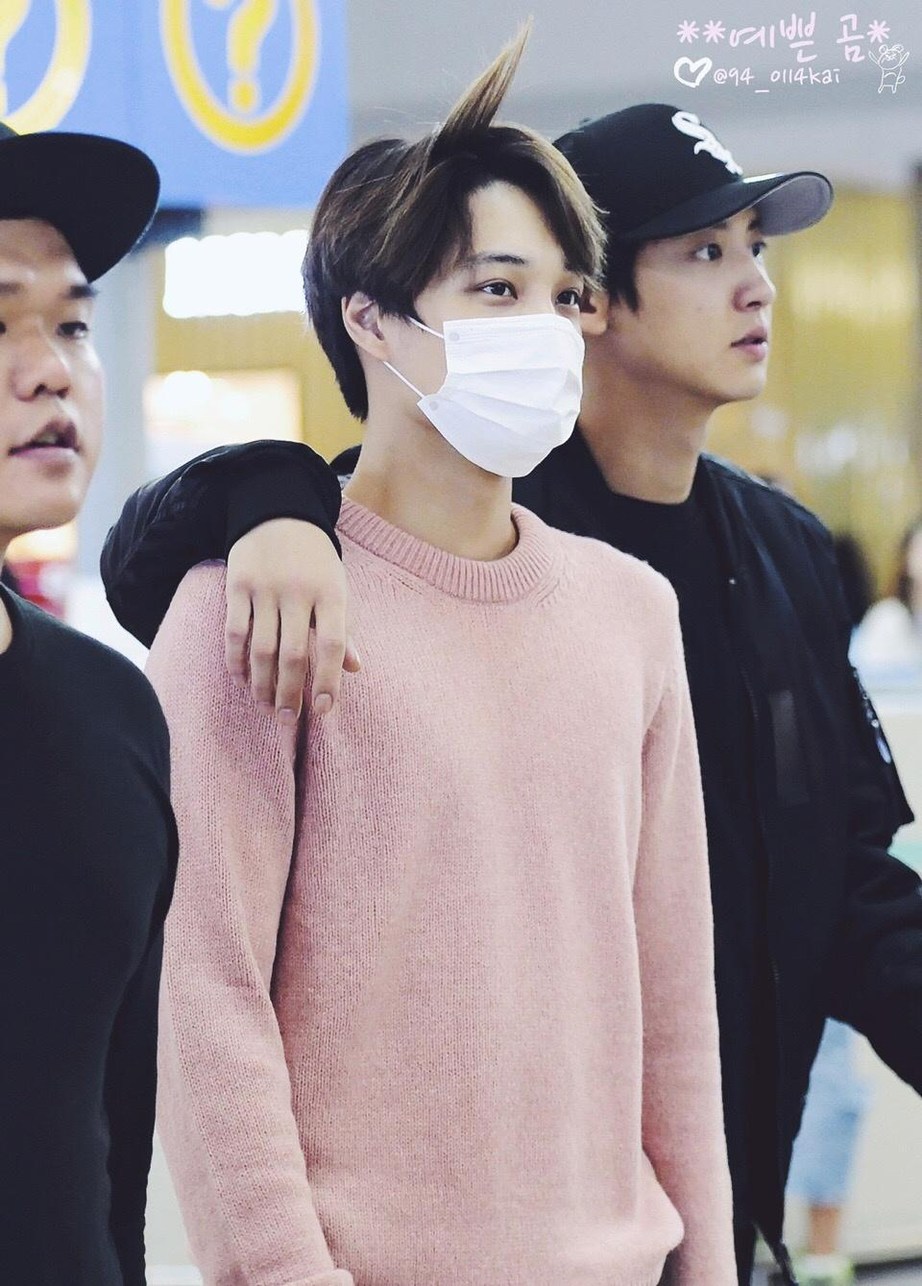NONE: (619, 209, 784, 401), (1, 238, 111, 526)
OK: (355, 219, 613, 476)
